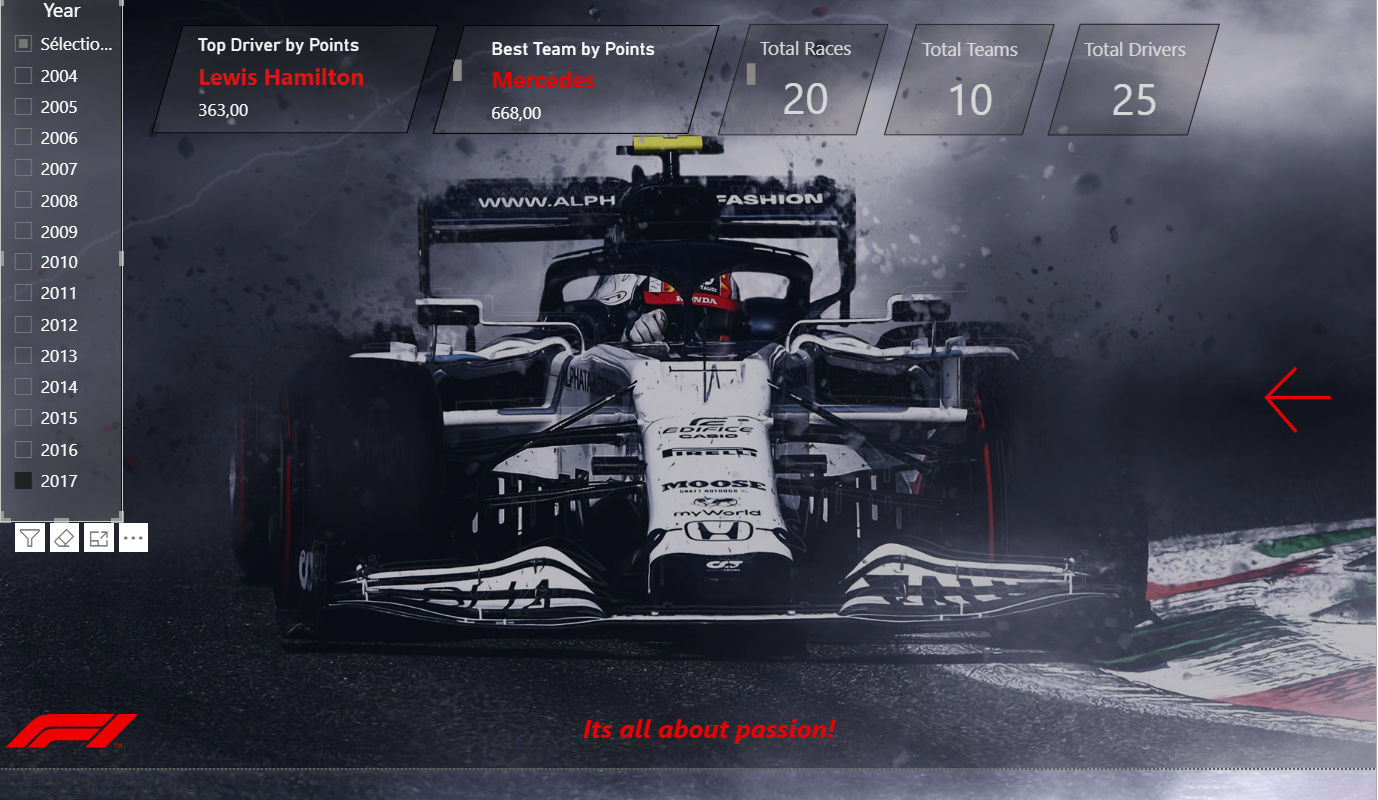

Layout of this report page (visuals, bound fields, positions):
{"tool":"powerbi","page":{"name":"Home","canvas":[1280,720],"ordinal":0},"visuals":[{"type":"actionButton","box":[1170,338.8,110,76.2],"z":0},{"type":"image","box":[0,648.6,133.8,71.6],"z":1000},{"type":"slicer","title":"Year","fields":{"Values":["aly6060 fact_result.aly6060.dim_race.date.Variation.Date Hierarchy.Year"]},"box":[0,0,113.7,490.2],"z":3000},{"type":"card","title":"Total Races","fields":{"Values":["aly6060 fact_result.No_of_Races"]},"box":[689.5,36.8,119.7,93.4],"z":4000},{"type":"card","title":"Total Drivers","fields":{"Values":["aly6060 fact_result.Total_Drivers"]},"box":[996.1,38.2,118.4,93.4],"z":5000},{"type":"card","title":"Total Teams","fields":{"Values":["aly6060 fact_result.Total_constructors"]},"box":[843.4,38.2,118.4,93.4],"z":6000},{"type":"textbox","box":[536.6,660.1,286,44],"z":7000},{"type":"shape","box":[668,26.3,159.2,103.9],"z":8000},{"type":"shape","box":[822.4,26.3,159.2,103.9],"z":9000},{"type":"shape","box":[975,26.3,160.5,103.9],"z":10000},{"type":"multiRowCard","title":"Top Driver by Points","fields":{"Values":["aly6060 fact_result.Driver's Name","Sum(aly6060 fact_result.points)"]},"box":[178.9,35.5,255.3,88.2],"z":11000},{"type":"shape","box":[141,27.7,267.4,100.9],"z":12000},{"type":"shape","box":[402,27.6,267.1,101.3],"z":13000},{"type":"multiRowCard","title":"Best Team by Points","fields":{"Values":["Sum(aly6060 fact_result.points)","aly6060 fact_result.aly6060.dim_constructor.name"]},"box":[452.6,39.5,255.3,88.2],"z":14000}]}

Visuals, with their boxes on the page's 1280x720 design canvas (x1, y1, x2, y2). These are canvas units, not pixel positions in the 1378x800 screenshot, which may show the page scaled, cropped or inside an application window:
actionButton: select_region(1170, 339, 1280, 415)
image: select_region(0, 649, 134, 720)
"Year" slicer: select_region(0, 0, 114, 490)
"Total Races" card: select_region(690, 37, 809, 130)
"Total Drivers" card: select_region(996, 38, 1114, 132)
"Total Teams" card: select_region(843, 38, 962, 132)
textbox: select_region(537, 660, 823, 704)
shape: select_region(668, 26, 827, 130)
shape: select_region(822, 26, 982, 130)
shape: select_region(975, 26, 1136, 130)
"Top Driver by Points" multiRowCard: select_region(179, 36, 434, 124)
shape: select_region(141, 28, 408, 129)
shape: select_region(402, 28, 669, 129)
"Best Team by Points" multiRowCard: select_region(453, 40, 708, 128)
